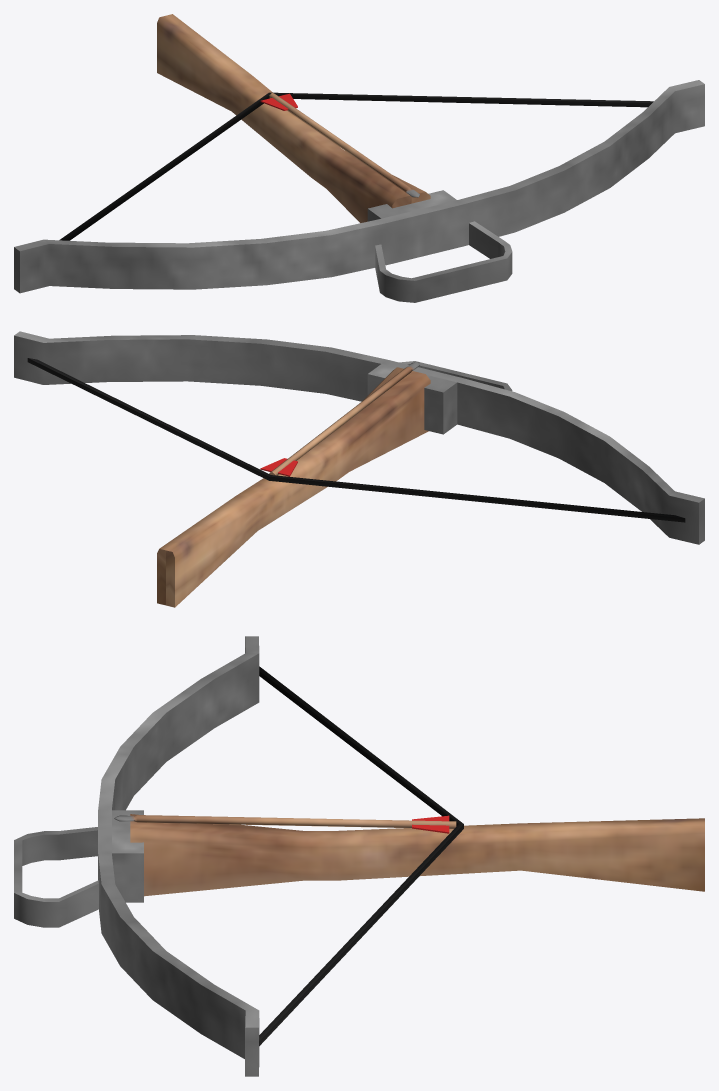
The model's file is HCCrossbow.fbx.
3 views of the same model, one above another, from view 1: azimuth 30°, elevation 25°; view 2: azimuth 150°, elevation 25°; view 3: azimuth 270°, elevation 25° (orthographic). The views are drawn at different scales.
Parts seen in each view (by area): view 1: Crossbow; view 2: Crossbow; view 3: Crossbow.
Part boxes in pixels (bbox=[...]): Crossbow: bbox=[14, 14, 704, 302]; Crossbow: bbox=[14, 331, 704, 607]; Crossbow: bbox=[14, 636, 704, 1076].
Size of the model in its own units: 0.5361 by 0.4001 by 0.0494.
